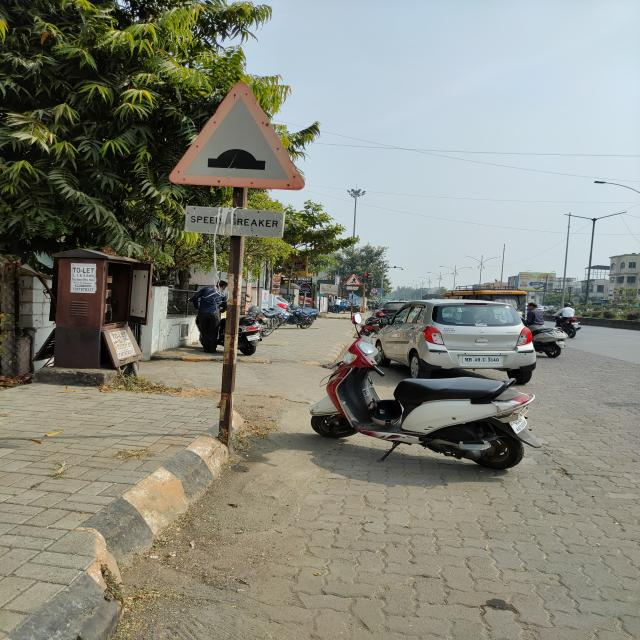horn_prohibited: (168, 82, 306, 190)
